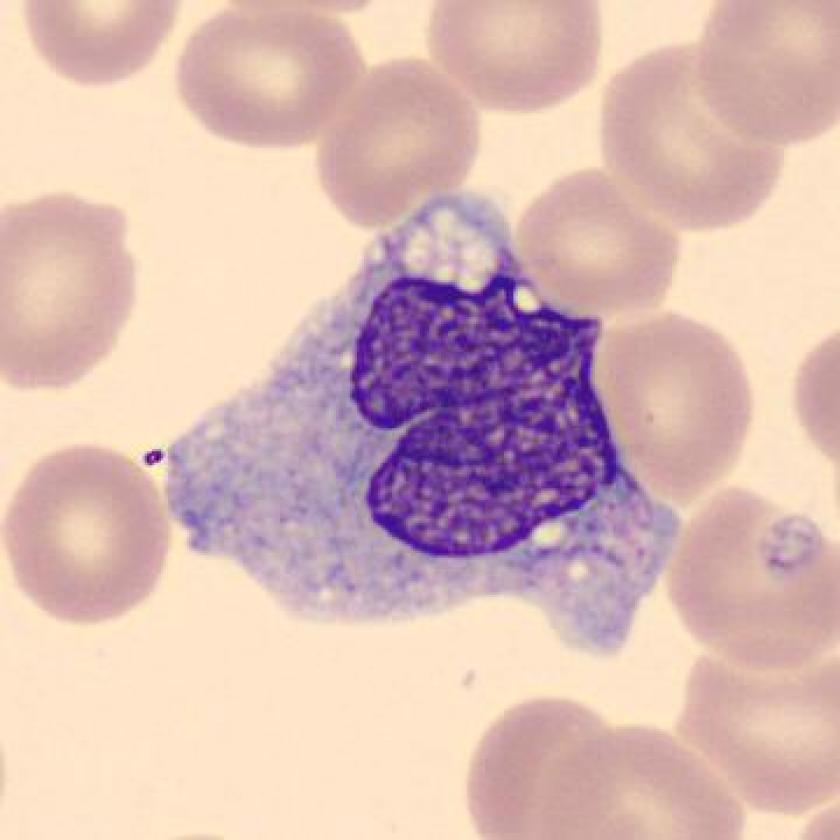monocyte: (151, 177, 711, 681)
